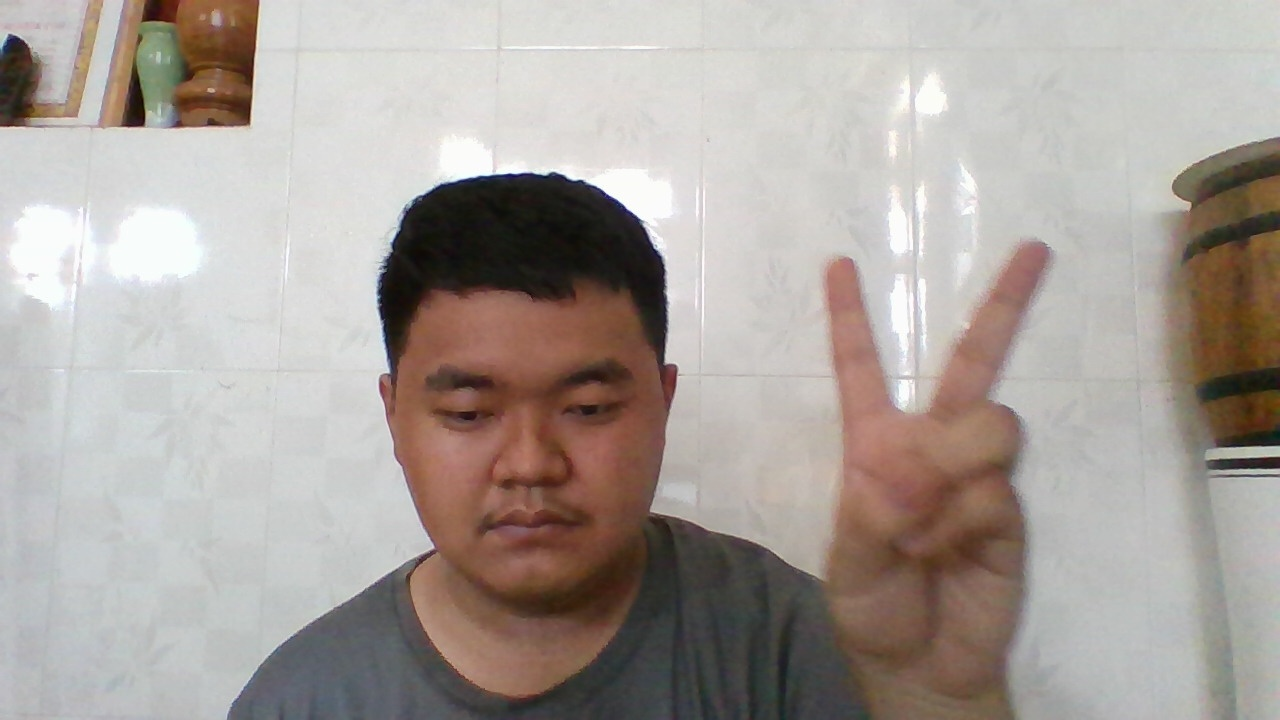V: (826, 240, 1047, 688)
